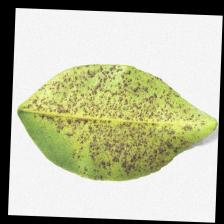canker: (67, 76, 175, 164)
